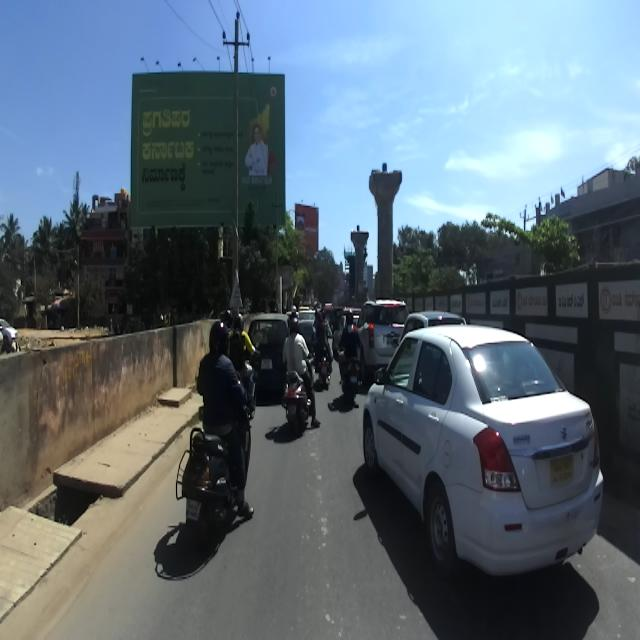car ahead at: (348, 324, 610, 586)
